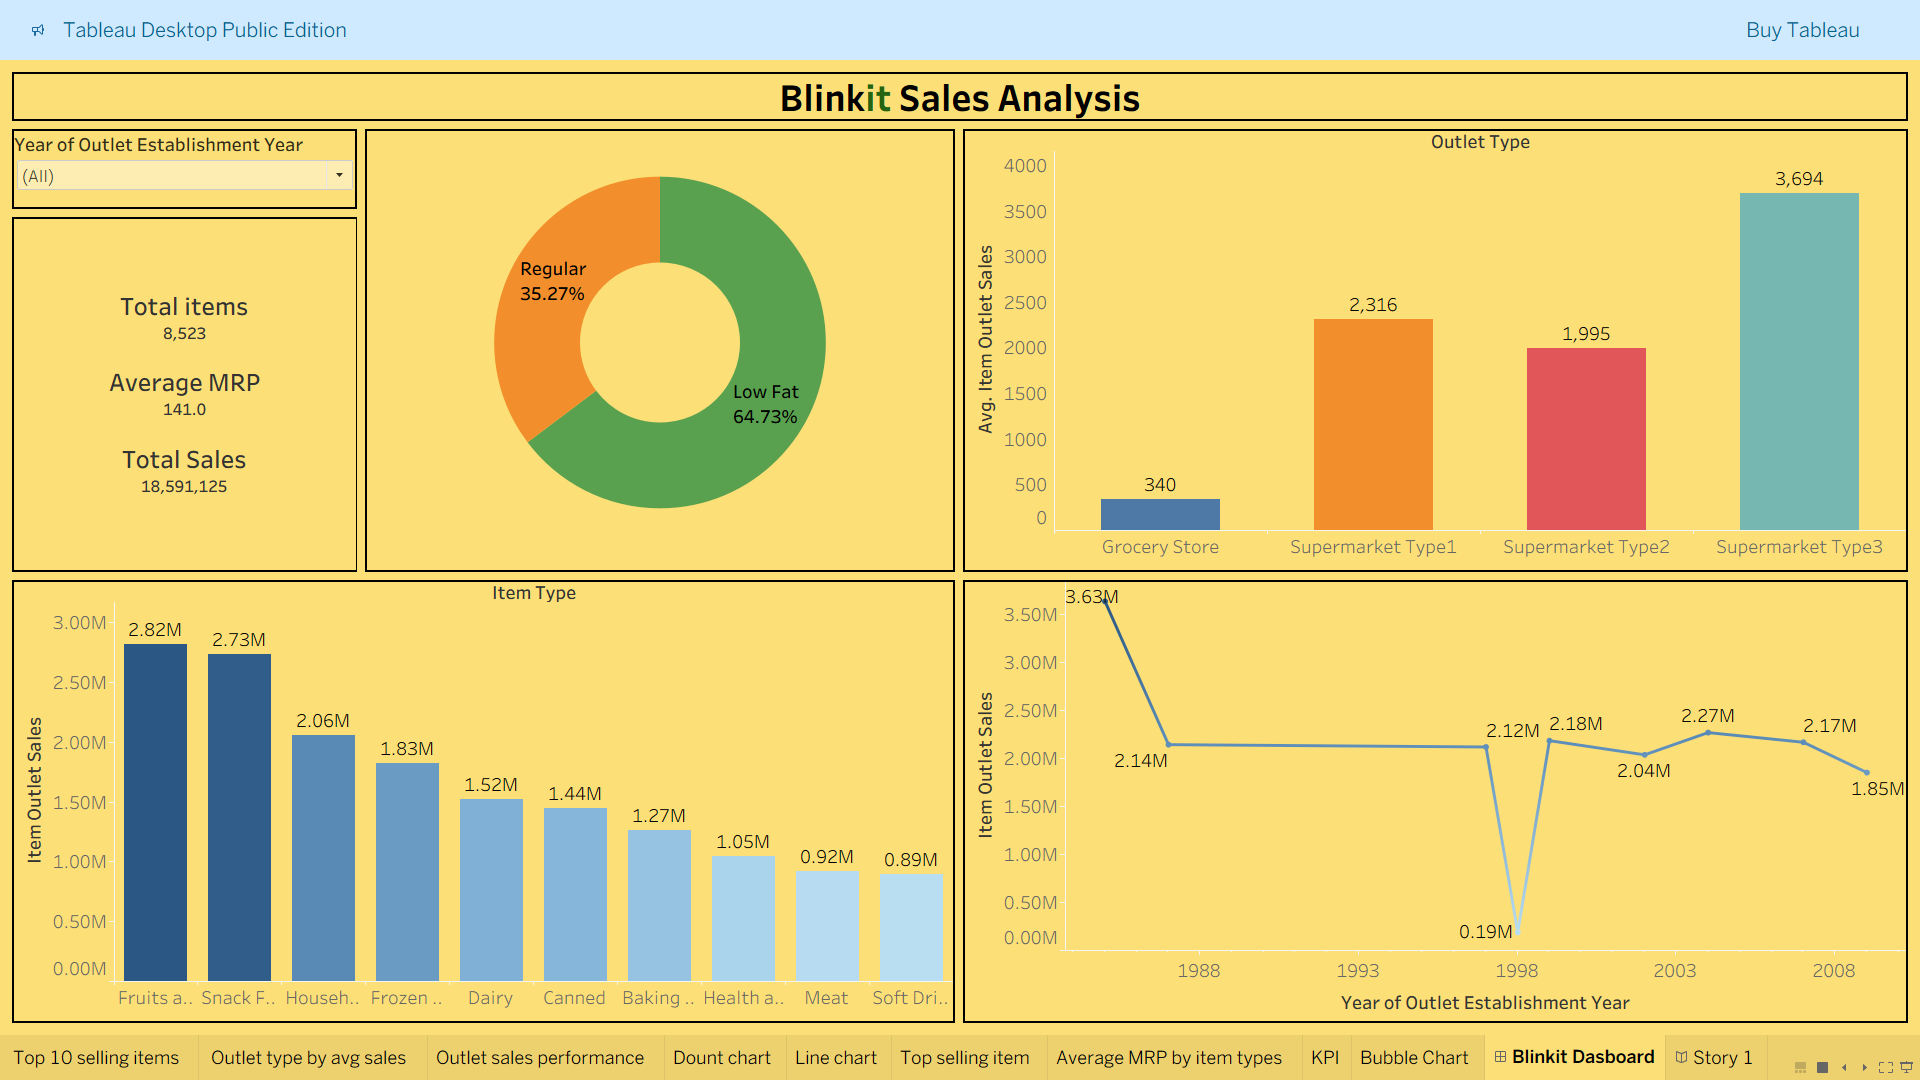

The dashboard page shown, as its layout file describes it:
{"tool":"tableau","page":{"name":"Blinkit Dasboard","canvas":[1000,1000],"units":"permille","ordinal":0},"visuals":[{"type":"title","box":[5,9.8,990,69.7]},{"type":"filter","title":" Top 10 selling items","param":"[federated.14hrnci022kokg17tbb520m2et4m].[yr:Outlet_Establishment_Year:ok]","box":[5,79.5,183.8,89]},{"type":"worksheet","title":"Dount chart","mark":"Pie","rows":["Calculation_0285939986608129","Calculation_0285939986632707"],"box":[188.8,79.5,310.9,455.2]},{"type":"worksheet","title":" Outlet type by avg sales","mark":"Automatic","rows":["Item_Outlet_Sales"],"cols":["Outlet_Type"],"box":[499.8,79.5,495.3,455.1]},{"type":"worksheet","title":"KPI","mark":"Automatic","box":[5,168.5,183.8,366.2]},{"type":"worksheet","title":" Top 10 selling items","mark":"Automatic","rows":["Item_Outlet_Sales"],"cols":["Item_Type"],"box":[5,534.6,494.8,455.6]},{"type":"worksheet","title":"Line chart","mark":"Automatic","rows":["Item_Outlet_Sales"],"cols":["Outlet_Establishment_Year"],"box":[499.8,534.6,495.3,455.7]}]}

Visuals, with their boxes on the dashboard's canvas, which has no fixed pixel size, in thousandths of its width and height (x1, y1, x2, y2). These are canvas units, not pixel positions in the 1920x1080 screenshot, which may show the page scaled, cropped or inside an application window:
title: l=5, t=10, r=995, b=80
" Top 10 selling items" filter: l=5, t=80, r=189, b=168
"Dount chart" worksheet (Pie marks): l=189, t=80, r=500, b=535
" Outlet type by avg sales" worksheet: l=500, t=80, r=995, b=535
"KPI" worksheet: l=5, t=168, r=189, b=535
" Top 10 selling items" worksheet: l=5, t=535, r=500, b=990
"Line chart" worksheet: l=500, t=535, r=995, b=990
